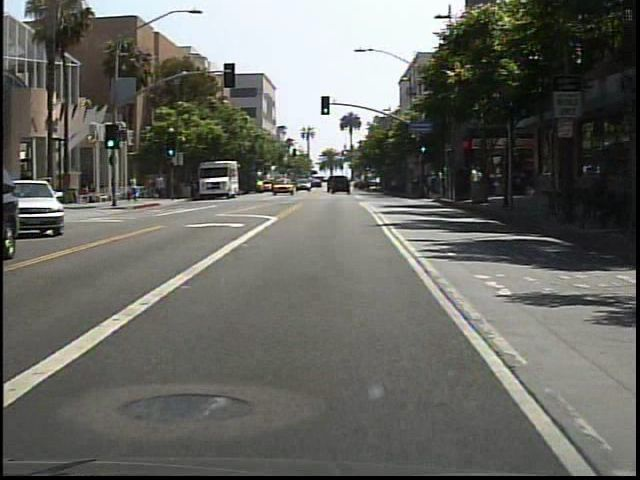person: (129, 172, 142, 204), (155, 173, 168, 202), (88, 183, 103, 208), (147, 177, 159, 200)
